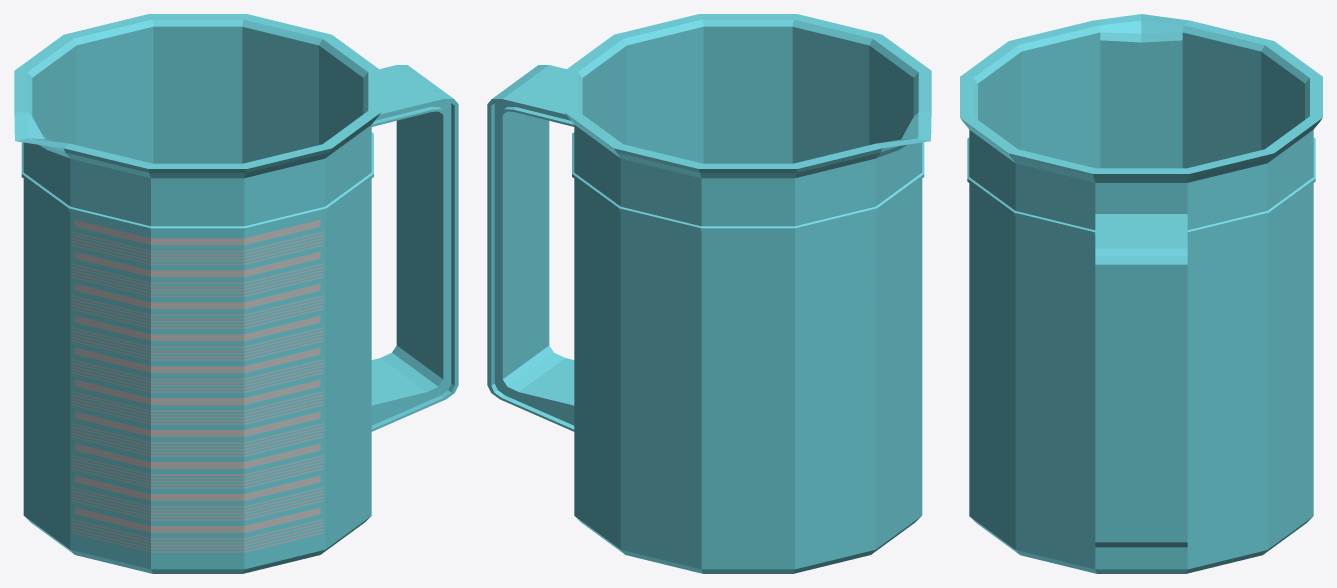
Rendered from SM_Beaker_04_B.gltf.
3 renders of one model, left to right at view 1: azimuth 30°, elevation 25°; view 2: azimuth 150°, elevation 25°; view 3: azimuth 270°, elevation 25°, orthographic.
Parts seen in each view (by area): view 1: SM_Beaker_04_B; view 2: SM_Beaker_04_B; view 3: SM_Beaker_04_B.
Part boxes in pixels (x1,y1,x2,y2): SM_Beaker_04_B: (14, 14, 458, 573); SM_Beaker_04_B: (487, 14, 931, 573); SM_Beaker_04_B: (960, 14, 1322, 573).
Size of the model in its own units: 0.3069 by 0.2893 by 0.232.
